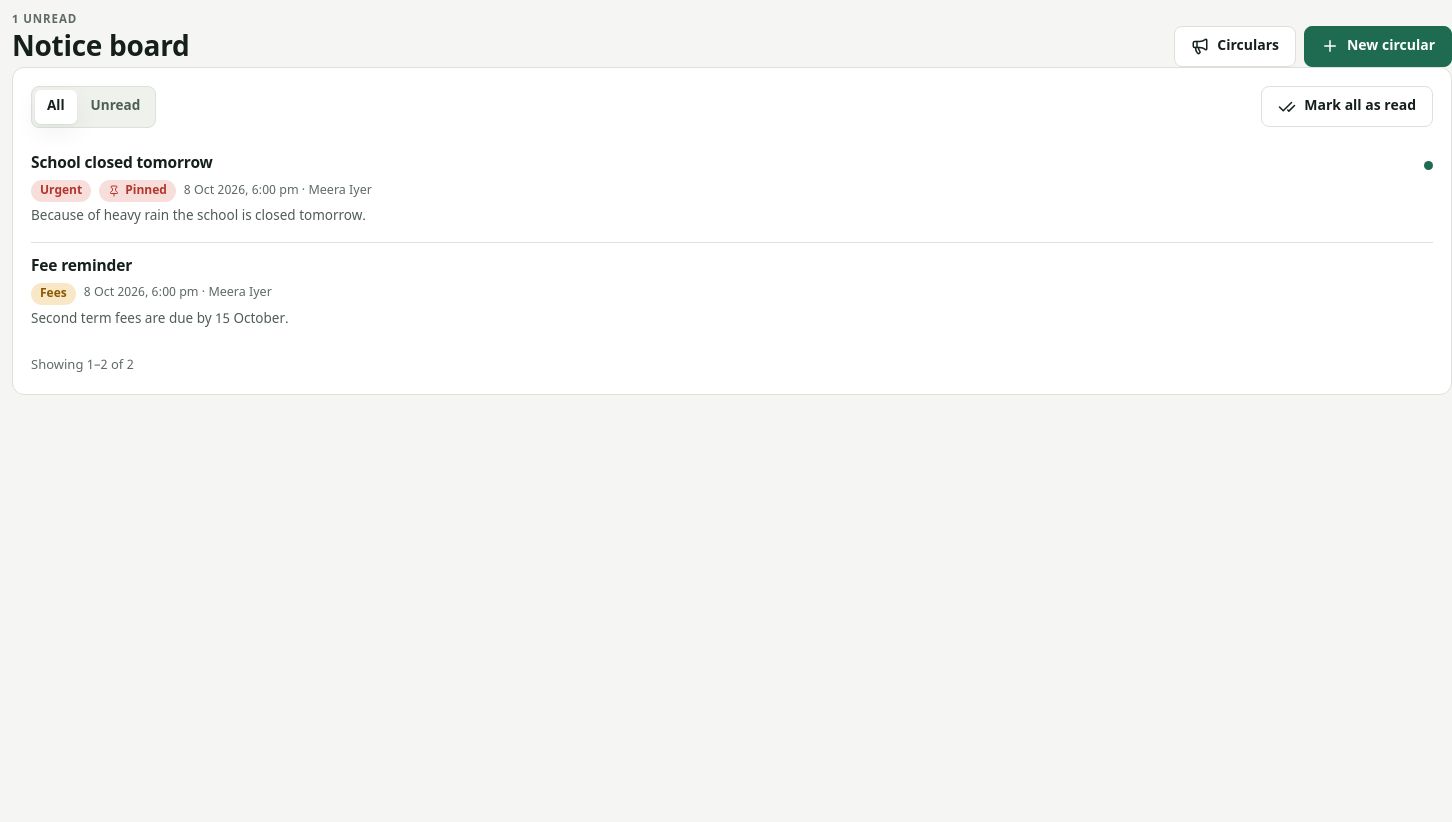
it: BoardView › filters to unread notices and marks everything read
Expected: the list with test id "board-list" is shown, [31,140,1433,344]
Click the radio button labelled "Unread". click: (115, 107)
box: [91,98,140,116]
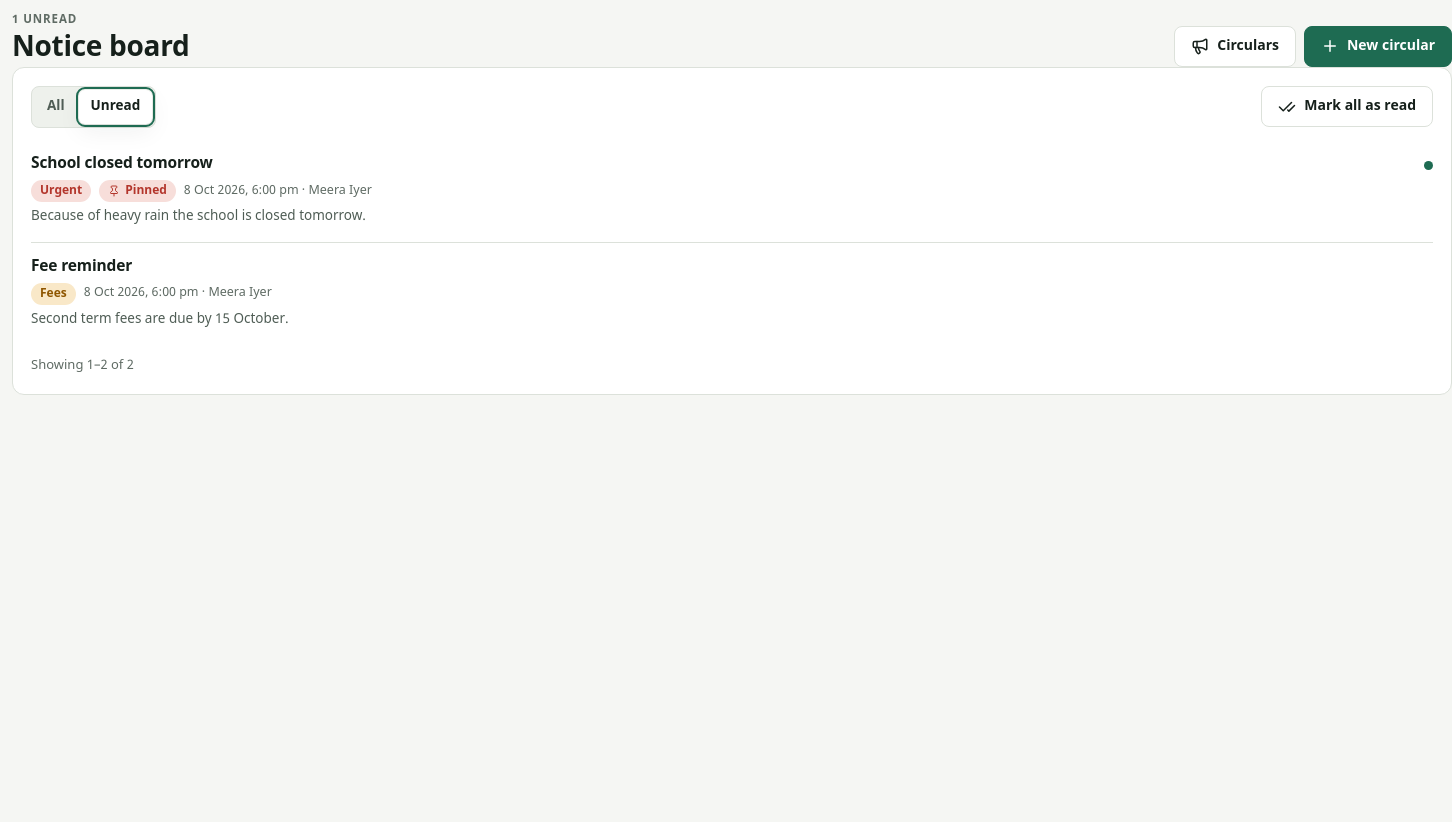
Click the button "Mark all as read". click: (1347, 107)
box: [1261,86,1433,127]
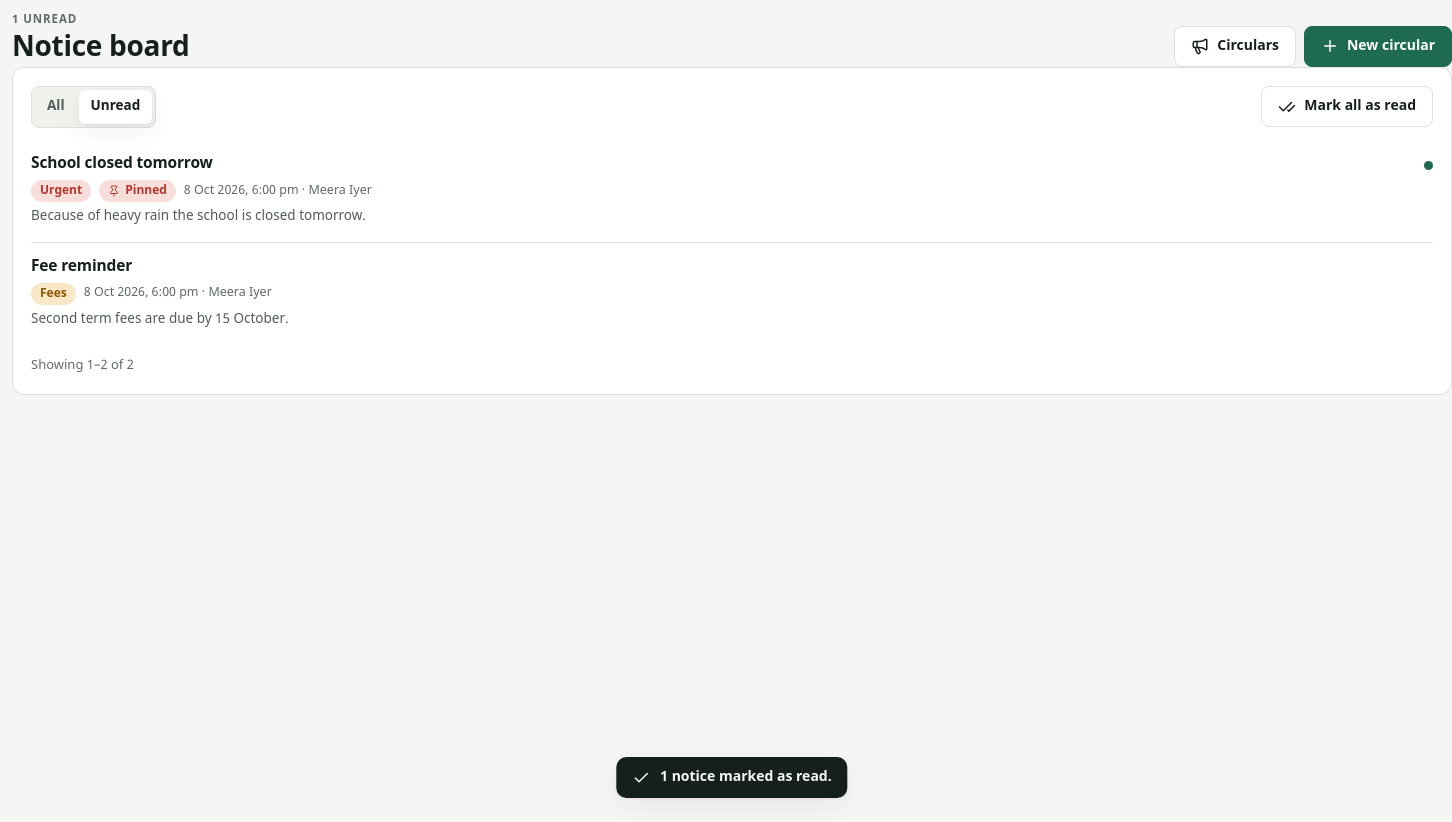
Result: the text "1 notice marked as read." is shown at [616,757,848,798]
